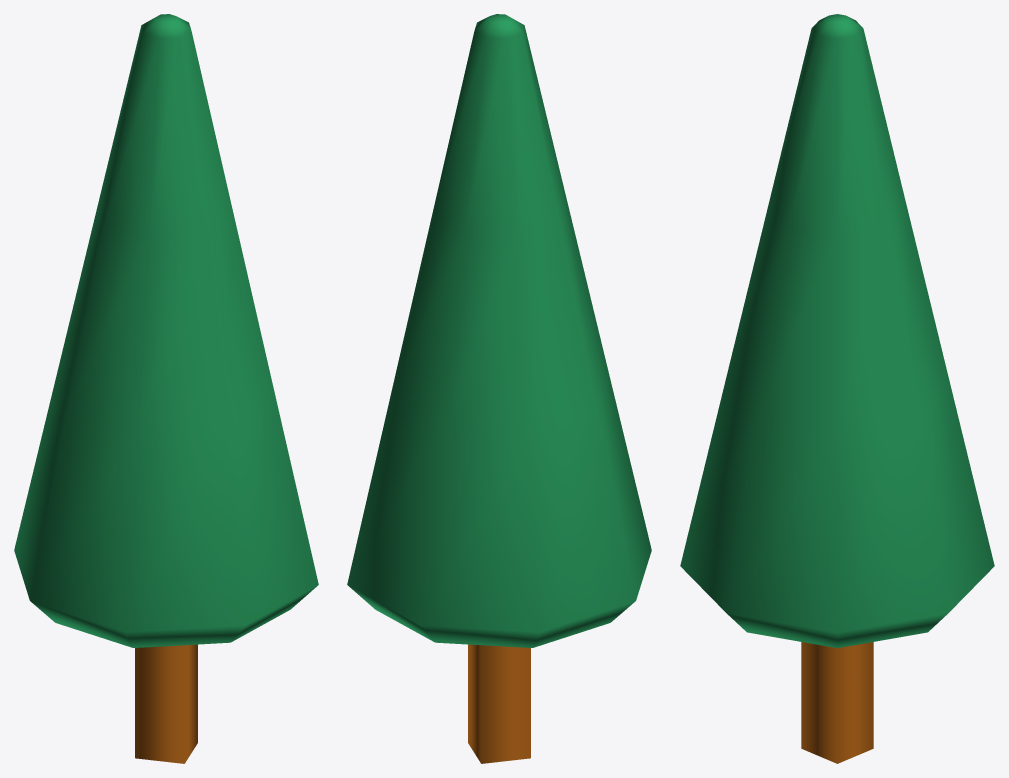
Rendered from Tree_v1.fbx.
The picture shows the model from 3 angles, left to right: view 1: azimuth 30°, elevation 25°; view 2: azimuth 150°, elevation 25°; view 3: azimuth 270°, elevation 25°; orthographic projection.
Visible parts, largest first — view 1: Tree_v1; view 2: Tree_v1; view 3: Tree_v1.
Boxes of the visible parts, bbox=[...] form: Tree_v1: bbox=[14, 14, 318, 763]; Tree_v1: bbox=[347, 14, 651, 763]; Tree_v1: bbox=[680, 14, 994, 763].
Size of the model in its own units: 60.07 by 154 by 60.07.
